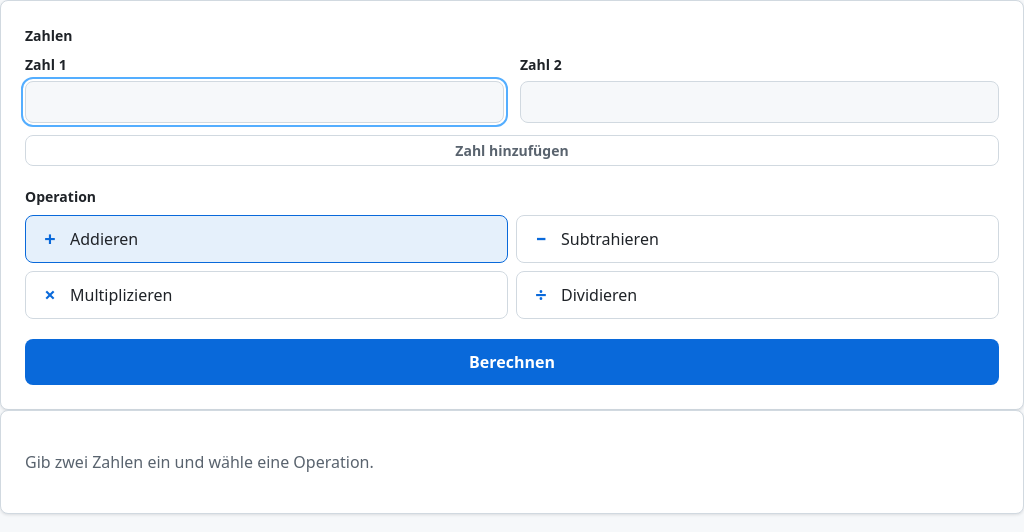
Test case: Calculator › shows a network error message
The image size is (1024, 532).
In the field labelled "Zahl 1": (264, 102) [25, 81, 504, 123], type "1"
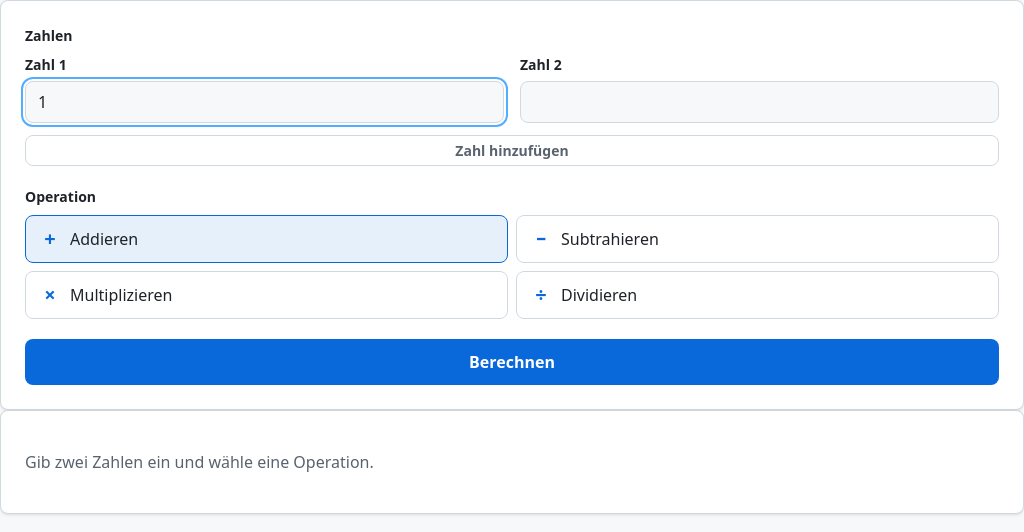
In the field labelled "Zahl 2": (760, 102) [520, 81, 999, 123], type "2"
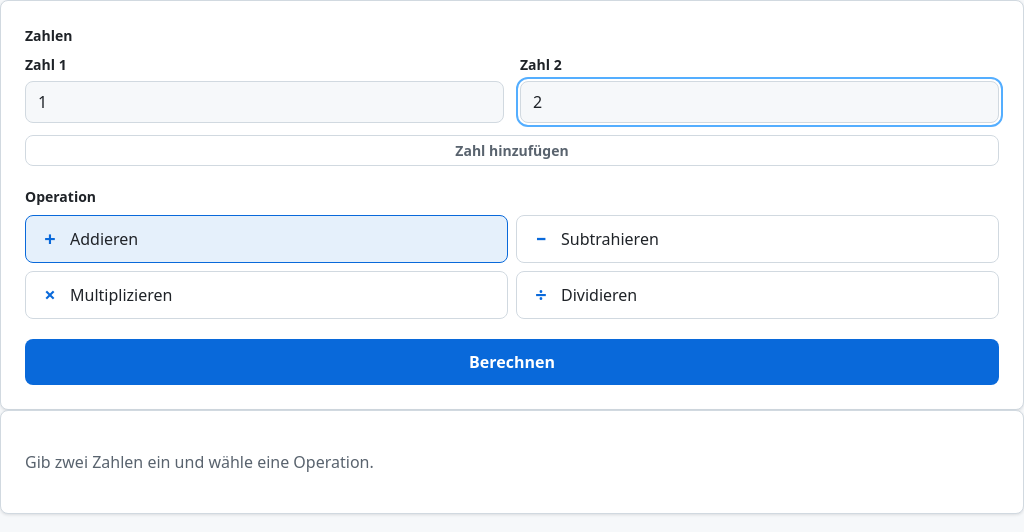
Click the button "Berechnen": (512, 362) [25, 339, 999, 385]
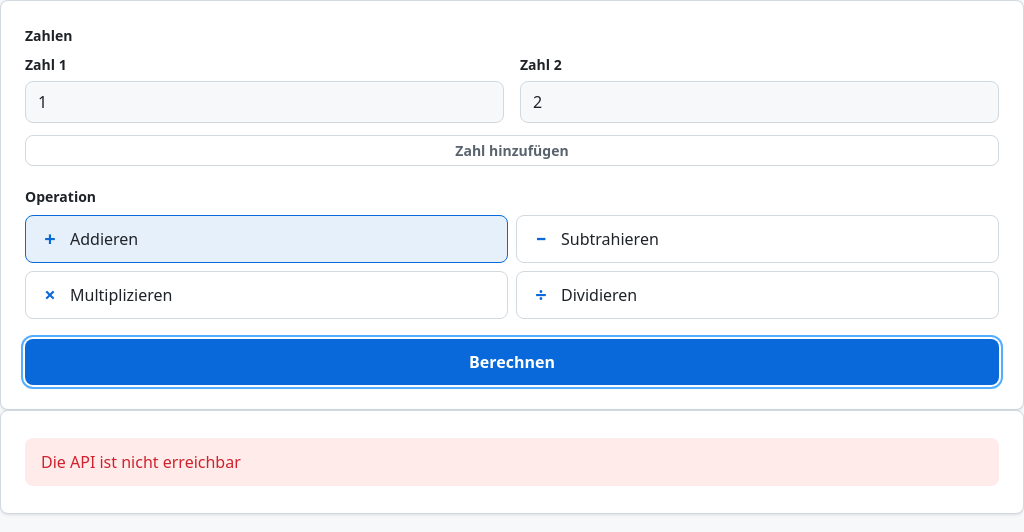
Check: the message reads "Die API ist nicht erreichbar", box [41, 451, 241, 473]
